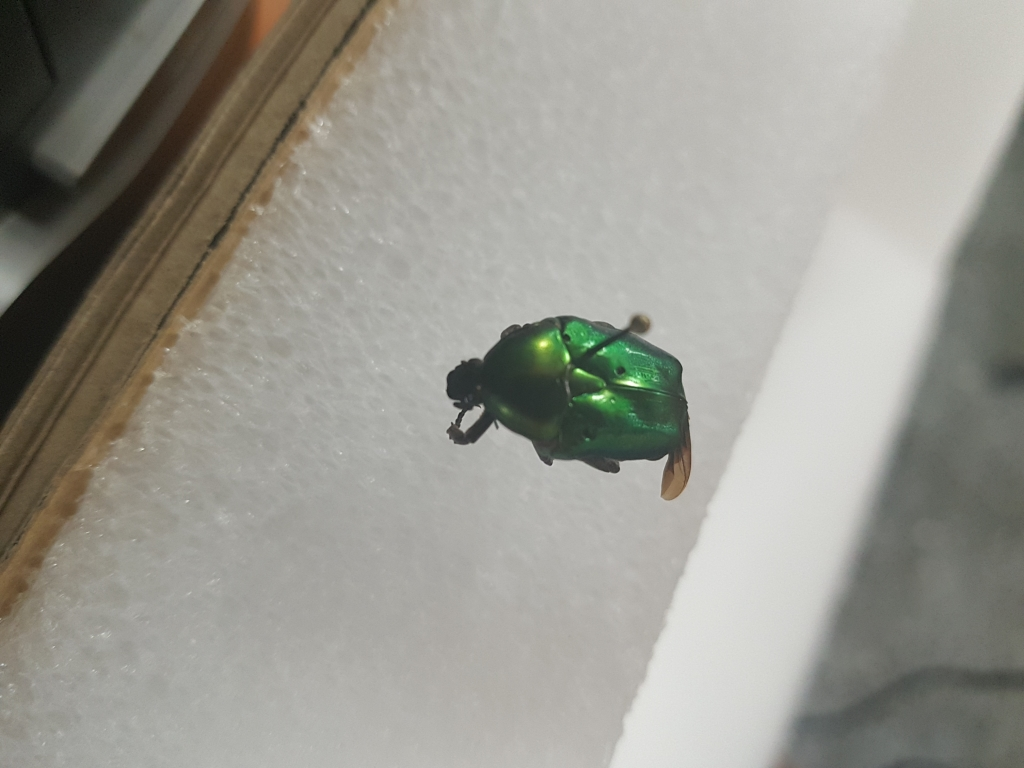Protaetia_cuprea_ignicollis: (423, 311, 719, 506)
